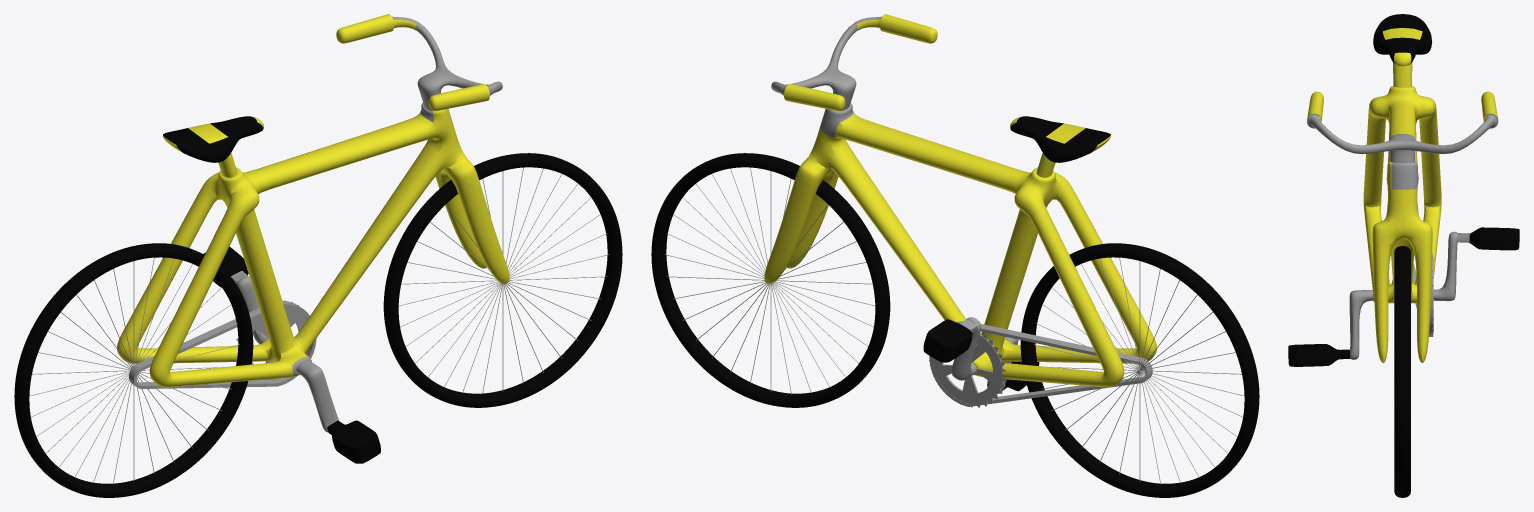
The model's file is bike.fbx.
The picture shows the model from 3 angles, left to right: view 1: azimuth 30°, elevation 25°; view 2: azimuth 150°, elevation 25°; view 3: azimuth 270°, elevation 25°; orthographic projection. The views are drawn at different scales.
Visible parts, largest first — view 1: Bike, Circle.001, Circle.003, Circle, Circle.002, Circle.005; view 2: Bike, Circle.001, Circle.003, Circle.002, Circle, Circle.005, Circle.004; view 3: Bike, Circle.001, Circle.005.
Boxes of the visible parts, box(x1,y1,x2,y2) form: Bike: box(117, 14, 509, 463); Circle.001: box(383, 153, 622, 407); Circle.003: box(14, 243, 253, 497); Circle: box(399, 167, 609, 394); Circle.002: box(30, 257, 239, 484); Circle.005: box(129, 301, 316, 388); Bike: box(764, 14, 1156, 393); Circle.001: box(651, 153, 890, 407); Circle.003: box(1020, 243, 1259, 497); Circle.002: box(1034, 257, 1243, 484); Circle: box(664, 167, 874, 394); Circle.005: box(929, 321, 1152, 406); Circle.004: box(929, 332, 1006, 407); Bike: box(1288, 14, 1519, 366); Circle.001: box(1394, 246, 1410, 497); Circle.005: box(1412, 257, 1433, 336).
Size of the model in its own units: 1.97 by 0.7033 by 1.15.
